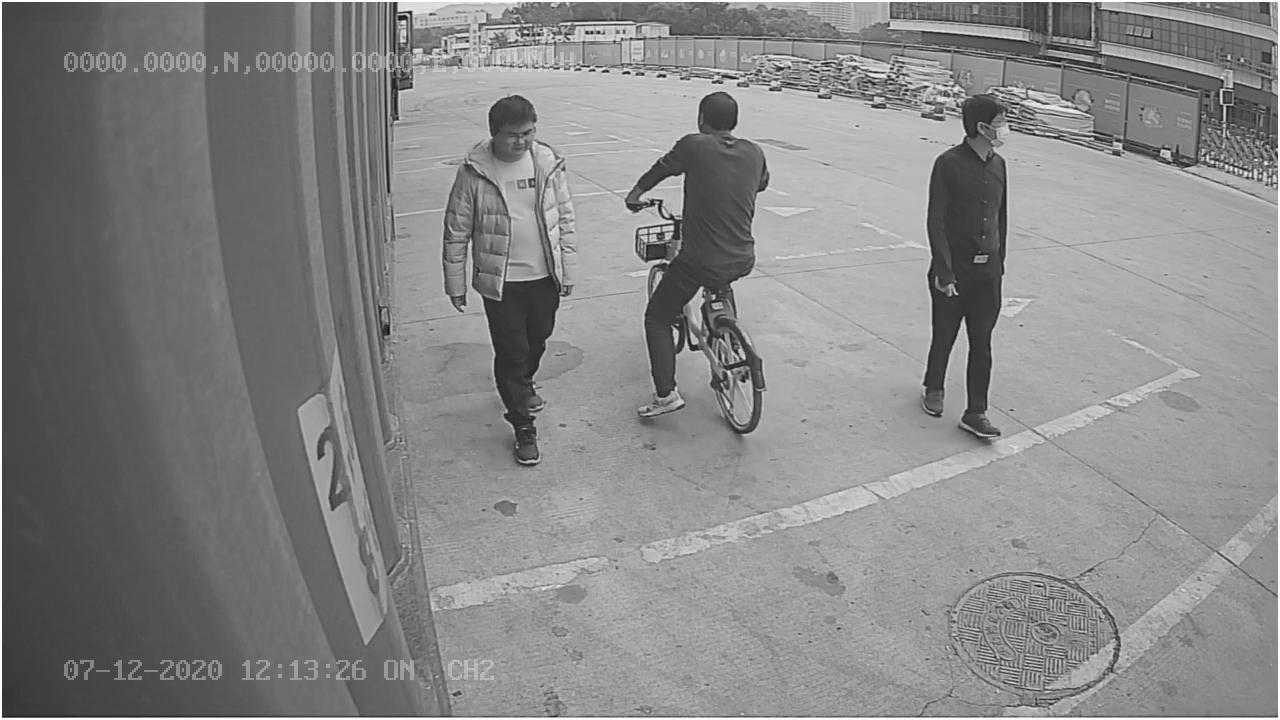person: (441, 95, 581, 469), (922, 86, 1012, 445)
